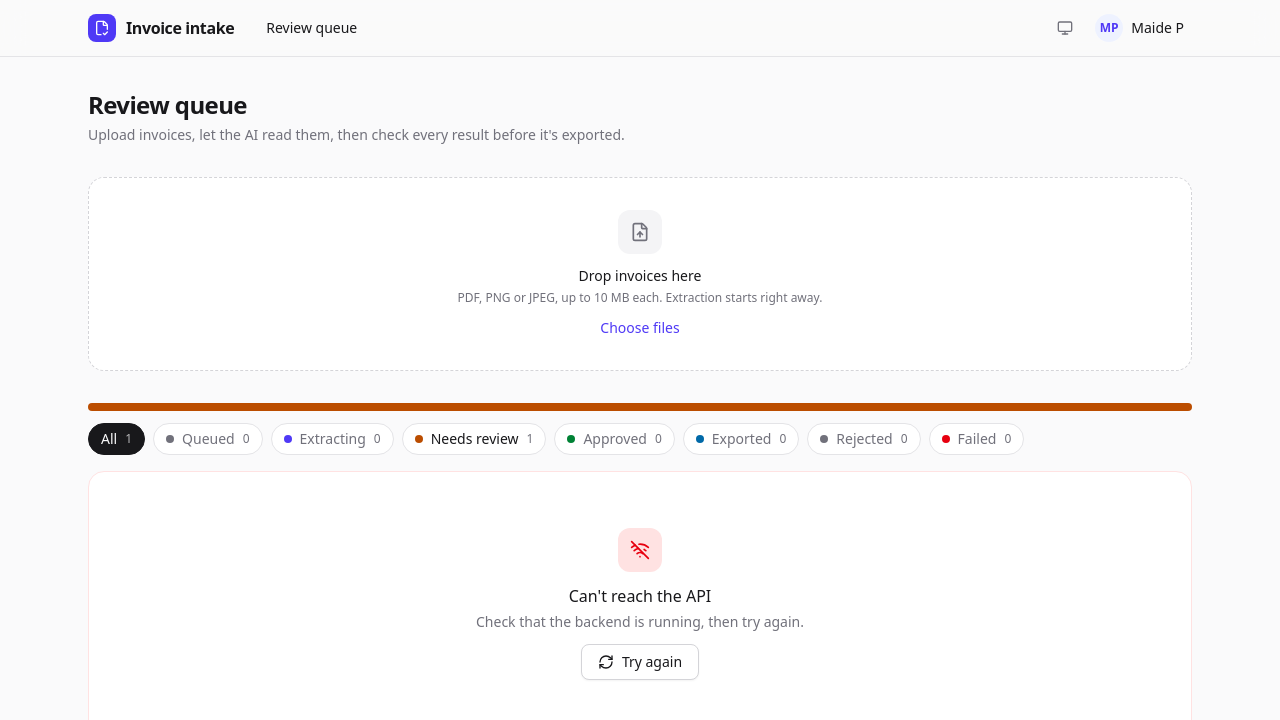
Test: review queue › explains a failure and recovers on retry
This screenshot has width=1280, height=720.
Expected: the message shows "Can't reach the API", x1=569 y1=585 x2=711 y2=607
Click the button "Try again". click: (640,662)
box: x1=581 y1=644 x2=699 y2=680
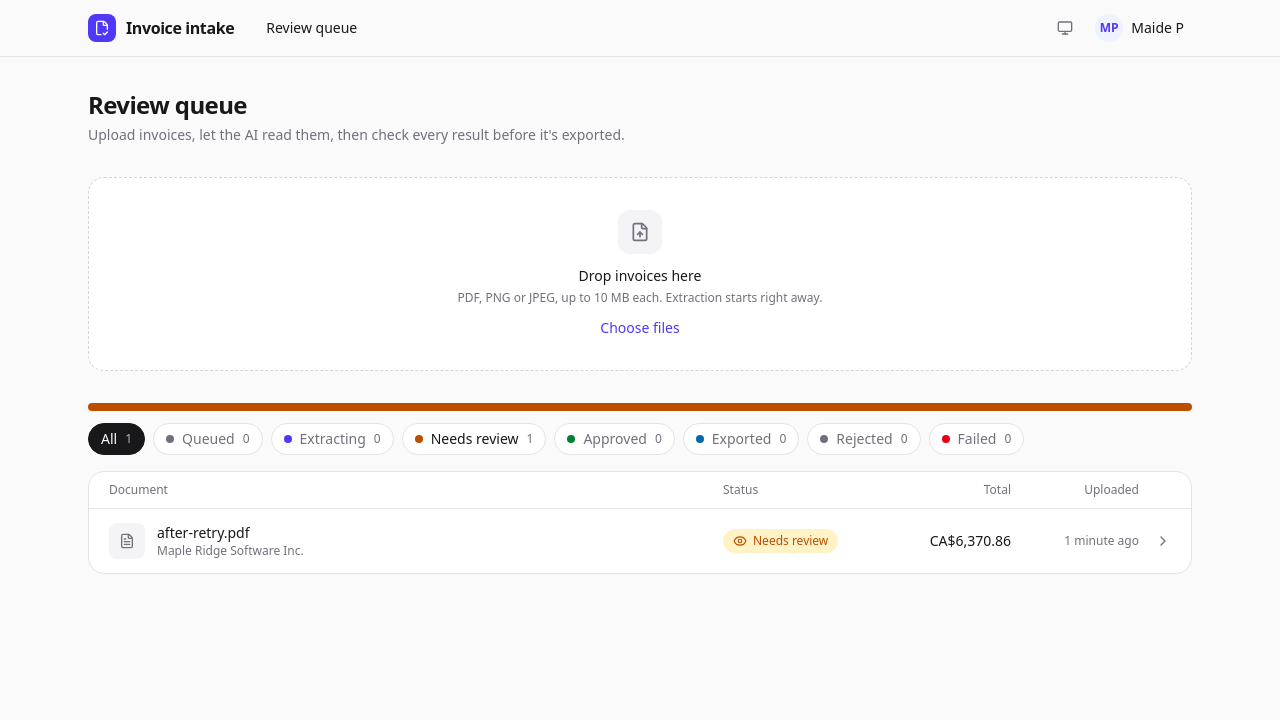
Result: the link "after-retry.pdf" is shown at x1=109 y1=523 x2=1171 y2=559
